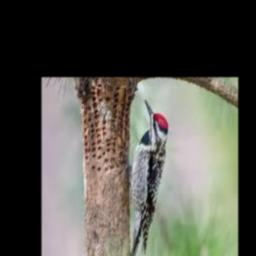Woodpecker: (128, 98, 168, 256)
